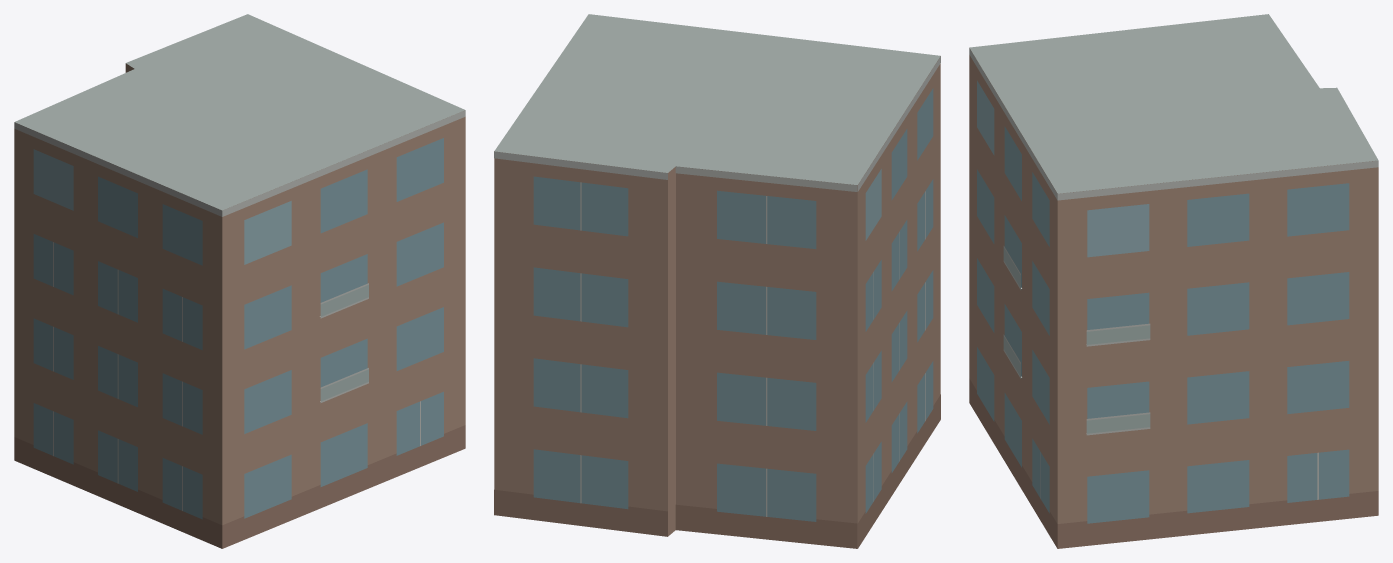
Rendered from survey-upis-32704928.glb.
3 renders of one model, left to right at view 1: azimuth 30°, elevation 25°; view 2: azimuth 150°, elevation 25°; view 3: azimuth 270°, elevation 25°, orthographic. The views are drawn at different scales.
Parts seen in each view (by area): view 1: survey-upis-32704928.tmp; view 2: survey-upis-32704928.tmp; view 3: survey-upis-32704928.tmp.
Boxes of the visible parts, x1,y1,x2,y2 form: survey-upis-32704928.tmp: (14, 14, 465, 548); survey-upis-32704928.tmp: (494, 14, 940, 548); survey-upis-32704928.tmp: (969, 14, 1378, 548).
Bounding box in the file's own units: 13.79 × 12.7 × 13.28.
